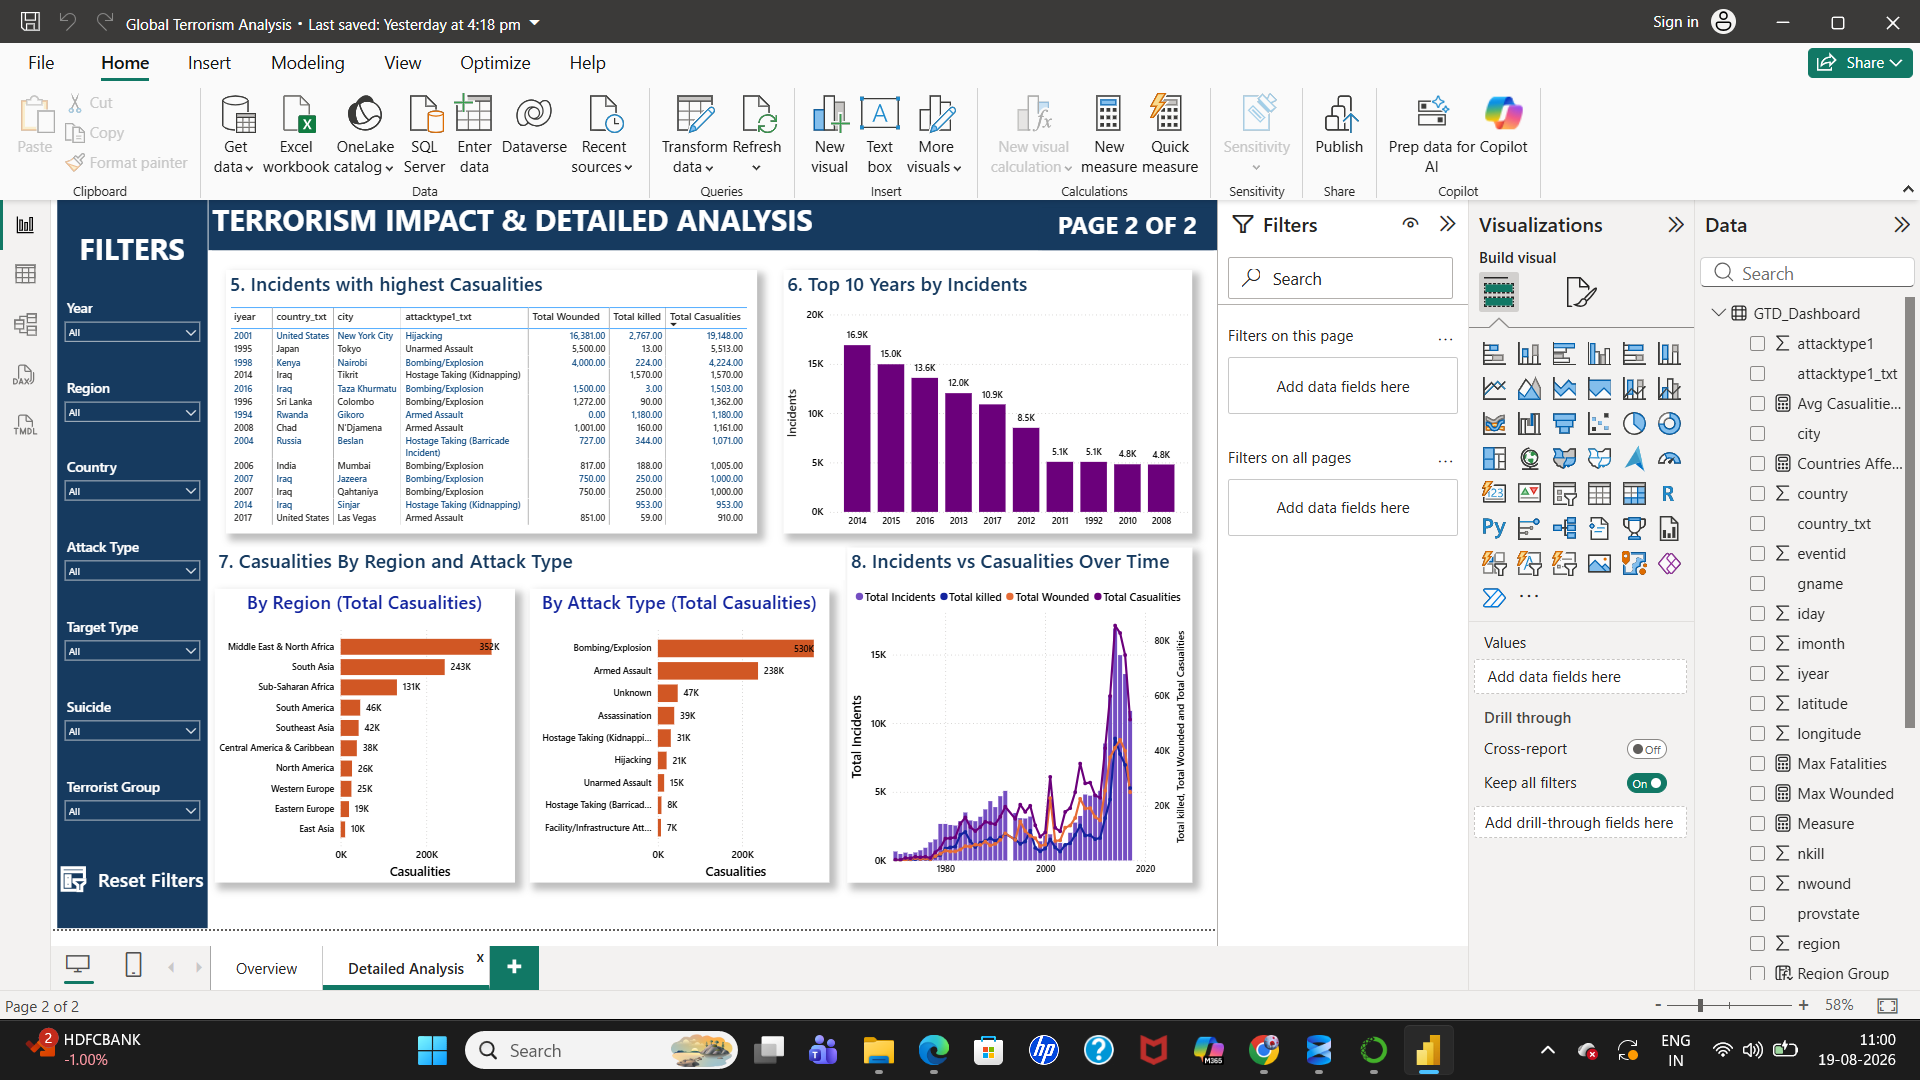

The dashboard page shown, as its layout file describes it:
{"tool":"powerbi","page":{"name":"Detailed Analysis","canvas":[1600,1000],"ordinal":1},"visuals":[{"type":"shape","box":[8.9,0,206.7,999.6],"z":0},{"type":"textbox","title":"TERRORISM IMPACT & DETAILED ANALYSIS","box":[216.1,0,1384.2,68.6],"z":1000,"group":"g2"},{"type":"slicer","fields":{"Values":["GTD_Dashboard.iyear"]},"box":[8,130,205.8,72.7],"z":2000},{"type":"slicer","fields":{"Values":["GTD_Dashboard.region_txt"]},"box":[8,239.4,205.8,72.7],"z":3000},{"type":"slicer","fields":{"Values":["GTD_Dashboard.country_txt"]},"box":[8,348.9,205.8,72.7],"z":4000},{"type":"slicer","fields":{"Values":["GTD_Dashboard.attacktype1_txt"]},"box":[8,458.3,205.8,72.7],"z":5000},{"type":"slicer","fields":{"Values":["GTD_Dashboard.targtype1_txt"]},"box":[8,567.7,205.8,72.7],"z":6000},{"type":"slicer","fields":{"Values":["GTD_Dashboard.Suicide Status"]},"box":[8,677.1,205.8,72.7],"z":7000},{"type":"textbox","title":"FILTERS","box":[16,40,192,64],"z":8000},{"type":"clusteredColumnChart","title":"6. Top 10 Years by Incidents","fields":{"Category":["GTD_Dashboard.iyear"],"Y":["GTD_Dashboard.Total Incidents"]},"box":[1005.1,96.1,560.9,361.9],"z":9000},{"type":"tableEx","title":"5. Incidents with highest Casualities","fields":{"Values":["GTD_Dashboard.iyear","GTD_Dashboard.country_txt","GTD_Dashboard.city","GTD_Dashboard.attacktype1_txt","GTD_Dashboard.Total Wounded","GTD_Dashboard.Total killed","GTD_Dashboard.Total Casualities"]},"box":[240,96,729,361.9],"z":10000},{"type":"clusteredBarChart","title":"By Region (Total Casualities)","fields":{"Category":["GTD_Dashboard.region_txt"],"Y":["GTD_Dashboard.Total Casualities"]},"box":[224.7,533.4,411.7,403.1],"z":11000,"group":"g1"},{"type":"clusteredBarChart","title":"By Attack Type (Total Casualities)","fields":{"Y":["GTD_Dashboard.Total Casualities"],"Category":["GTD_Dashboard.attacktype1_txt"]},"box":[656.9,533.4,411,403.1],"z":12000,"group":"g1"},{"type":"textbox","title":"7. Casualities By Region and Attack Type","box":[224.7,476.8,864.5,44.6],"z":13000,"group":"g1"},{"type":"lineClusteredColumnComboChart","title":"8. Incidents vs Casualities Over Time","fields":{"Category":["GTD_Dashboard.iyear"],"Y":["GTD_Dashboard.Total Incidents"],"Y2":["GTD_Dashboard.Total killed","GTD_Dashboard.Total Wounded","GTD_Dashboard.Total Casualities"]},"box":[1092.6,476.8,473.4,459.7],"z":14000},{"type":"actionButton","box":[8.8,896,205,72],"z":15000},{"type":"group","id":"g1","title":"Group 1","box":[224.7,476.8,864.5,459.7],"z":15001},{"type":"textbox","title":"PAGE 2 OF 2","box":[1355.9,10.7,244.1,58.8],"z":15002,"group":"g2"},{"type":"group","id":"g2","title":"Group 2","box":[216.1,0,1384.2,69.5],"z":15003},{"type":"slicer","fields":{"Values":["GTD_Dashboard.gname"]},"box":[8,786.6,205.8,72.7],"z":15004}]}

Visuals, with their boxes on the page's 1600x1000 design canvas (x1, y1, x2, y2). These are canvas units, not pixel positions in the 1920x1080 screenshot, which may show the page scaled, cropped or inside an application window:
shape: region(9, 0, 216, 1000)
"TERRORISM IMPACT & DETAILED ANALYSIS" textbox: region(216, 0, 1600, 69)
slicer - GTD_Dashboard.iyear: region(8, 130, 214, 203)
slicer - GTD_Dashboard.region_txt: region(8, 239, 214, 312)
slicer - GTD_Dashboard.country_txt: region(8, 349, 214, 422)
slicer - GTD_Dashboard.attacktype1_txt: region(8, 458, 214, 531)
slicer - GTD_Dashboard.targtype1_txt: region(8, 568, 214, 640)
slicer - GTD_Dashboard.Suicide Status: region(8, 677, 214, 750)
"FILTERS" textbox: region(16, 40, 208, 104)
"6. Top 10 Years by Incidents" clusteredColumnChart: region(1005, 96, 1566, 458)
"5. Incidents with highest Casualities" tableEx: region(240, 96, 969, 458)
"By Region (Total Casualities)" clusteredBarChart: region(225, 533, 636, 936)
"By Attack Type (Total Casualities)" clusteredBarChart: region(657, 533, 1068, 936)
"7. Casualities By Region and Attack Type" textbox: region(225, 477, 1089, 521)
"8. Incidents vs Casualities Over Time" lineClusteredColumnComboChart: region(1093, 477, 1566, 936)
actionButton: region(9, 896, 214, 968)
"Group 1" group: region(225, 477, 1089, 936)
"PAGE 2 OF 2" textbox: region(1356, 11, 1600, 70)
"Group 2" group: region(216, 0, 1600, 70)
slicer - GTD_Dashboard.gname: region(8, 787, 214, 859)
